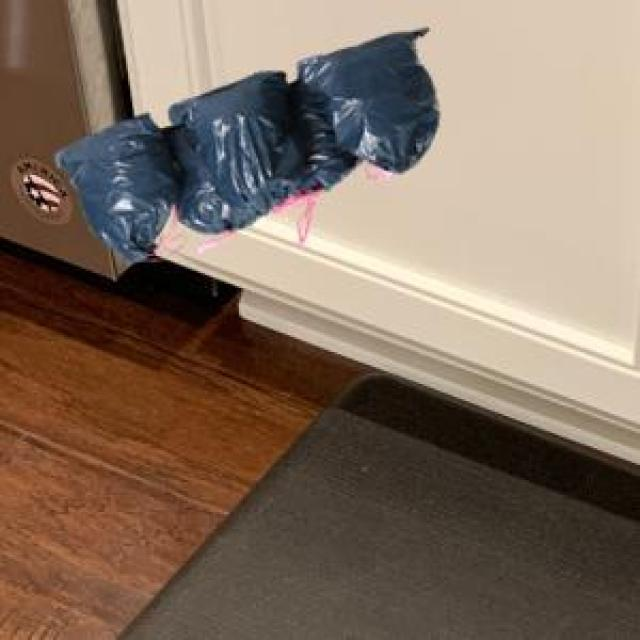Vinyl: (56, 29, 439, 262)
